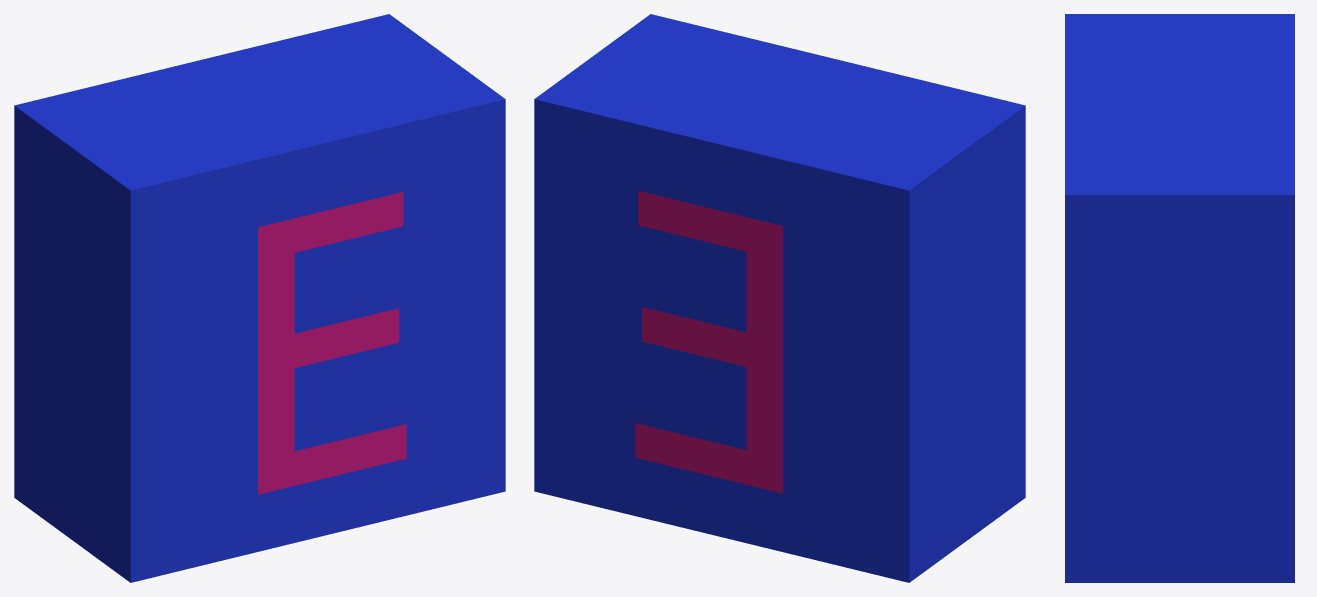
The model's file is pickup_exp.glb.
3 renders of one model, left to right at view 1: azimuth 30°, elevation 25°; view 2: azimuth 150°, elevation 25°; view 3: azimuth 270°, elevation 25°, orthographic.
Parts seen in each view (by area): view 1: exp_pickup; view 2: exp_pickup; view 3: exp_pickup.
Part boxes in pixels (x1,y1,x2,y2): exp_pickup: (14,14,505,582); exp_pickup: (534,14,1025,582); exp_pickup: (1065,14,1294,582).
Size of the model in its own units: 1 by 1 by 0.5814.
1 material, 1 textured.
